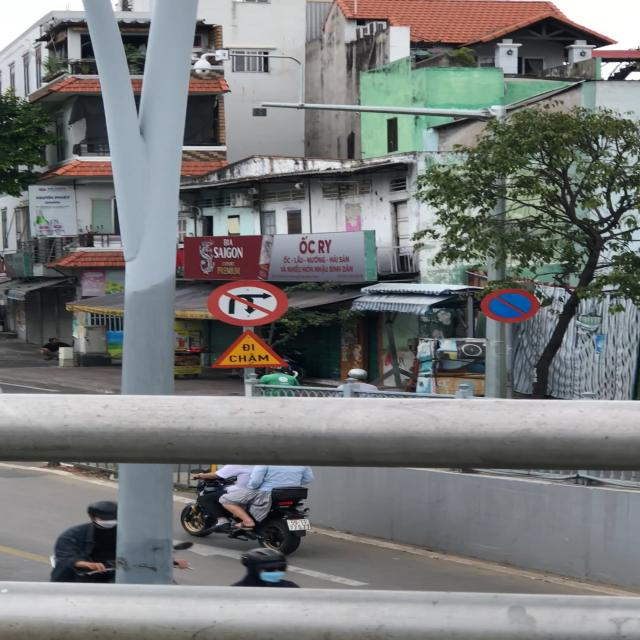Bien bao cam re phai va quay dau: (208, 277, 297, 330)
